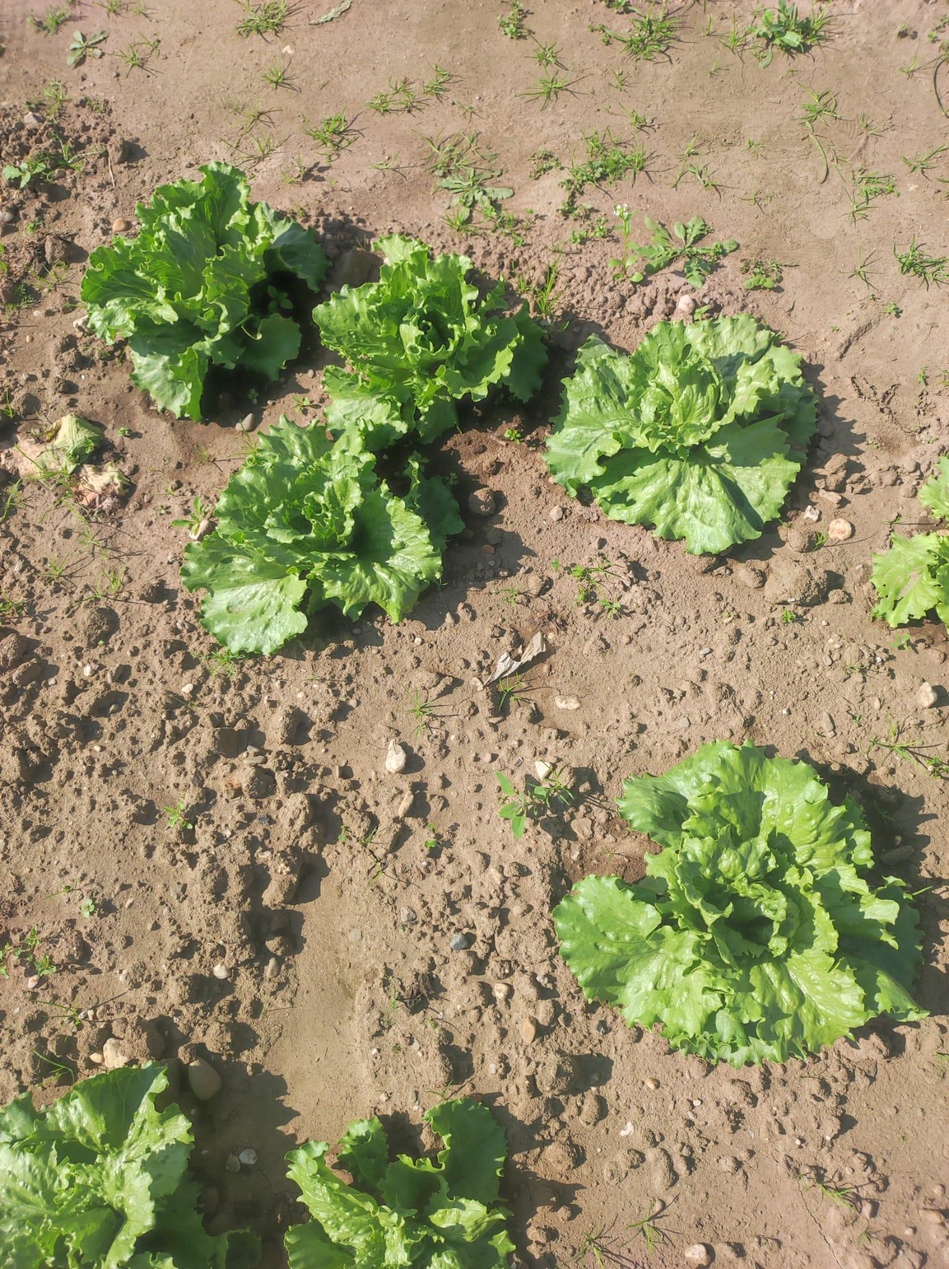Healthy: (553, 742, 927, 1069), (180, 417, 463, 655), (544, 314, 818, 554), (80, 160, 328, 420), (0, 1063, 258, 1269), (312, 234, 547, 450), (284, 1102, 514, 1269)
